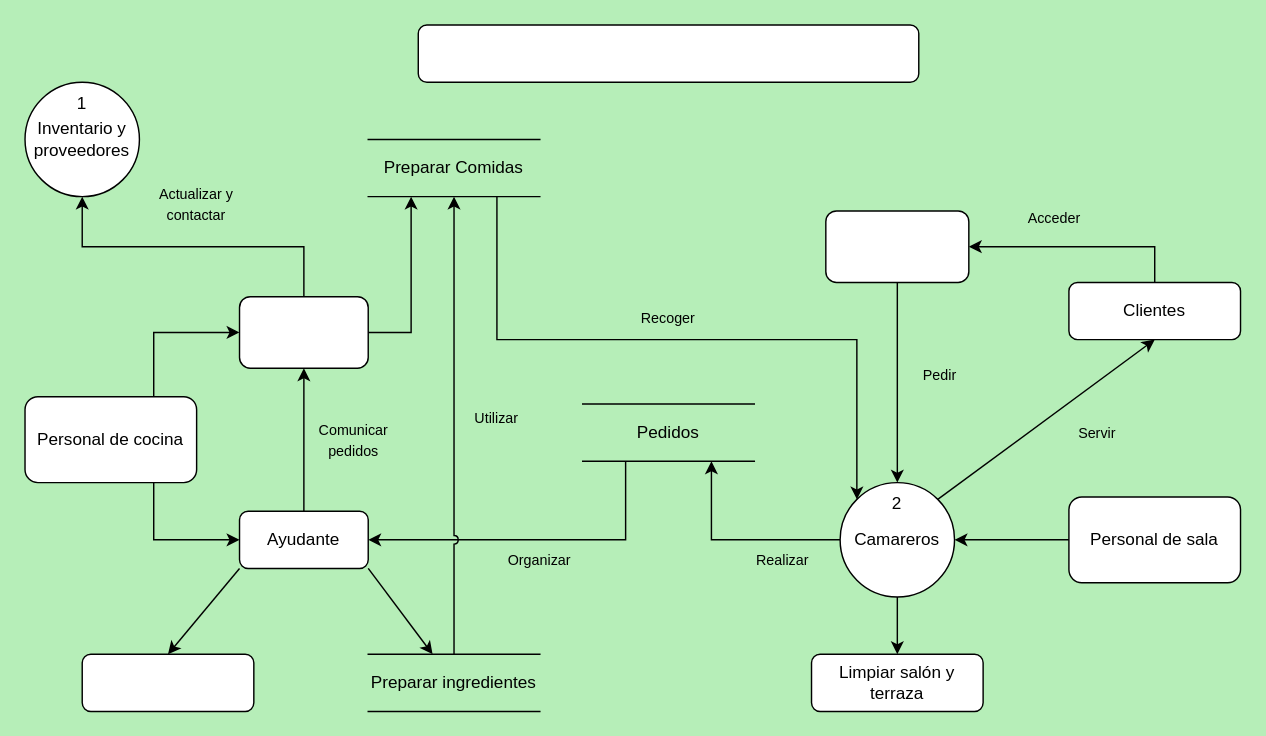
Image size: 1266x736. Some labels were removed from this diagram. Each missing label, with the centre of its shape:
Cocineros: the point at 303,331
Diagrama 0: Personal del bar: the point at 668,53
Lavar platos: the point at 167,682
Salón y terraza: the point at 896,245
